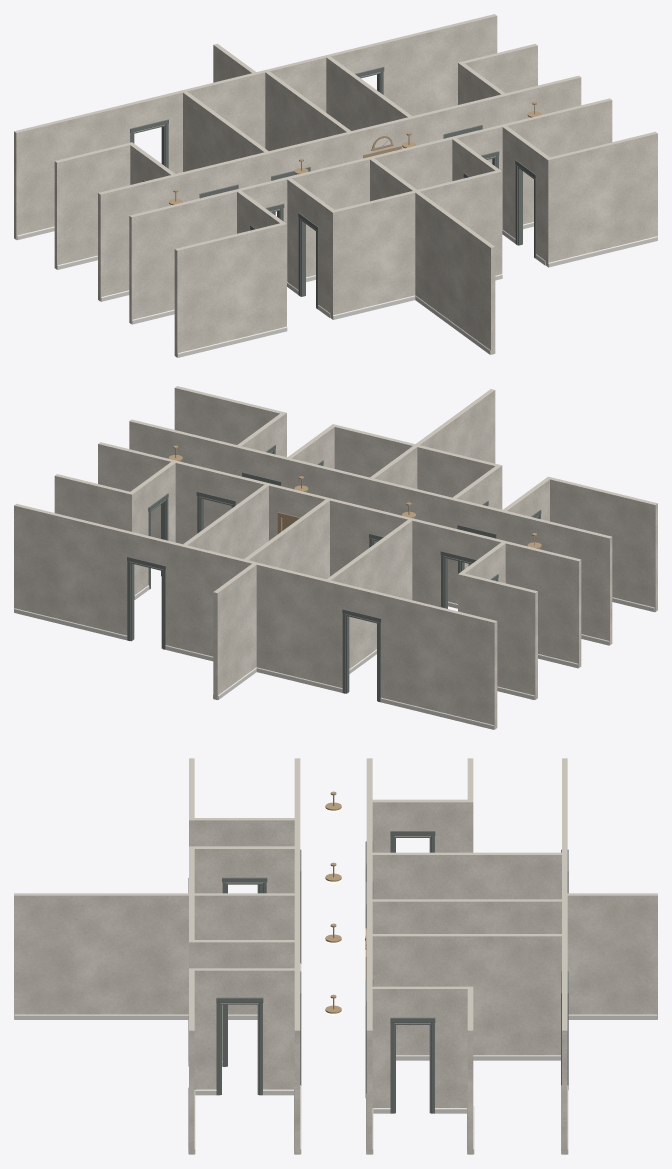
File: plan_low.glb
3 views of the same model, one above another, from view 1: azimuth 30°, elevation 25°; view 2: azimuth 150°, elevation 25°; view 3: azimuth 270°, elevation 25° (orthographic). The views are drawn at different scales.
Parts seen in each view (by area): view 1: plan_low_plaster, plan_low_frame, plan_low_trim, plan_low_bronze; view 2: plan_low_plaster, plan_low_frame, plan_low_trim, plan_low_bronze; view 3: plan_low_plaster, plan_low_frame, plan_low_trim, plan_low_bronze.
Part boxes in pixels (left/top/right/bottom): plan_low_plaster: left=14, top=14, right=657, bottom=357; plan_low_frame: left=130, top=67, right=536, bottom=309; plan_low_trim: left=17, top=222, right=657, bottom=357; plan_low_bronze: left=169, top=101, right=541, bottom=204; plan_low_plaster: left=14, top=386, right=657, bottom=729; plan_low_frame: left=127, top=444, right=541, bottom=702; plan_low_trim: left=14, top=585, right=654, bottom=729; plan_low_bronze: left=169, top=445, right=541, bottom=548; plan_low_plaster: left=14, top=758, right=657, bottom=1154; plan_low_frame: left=216, top=831, right=568, bottom=1113; plan_low_trim: left=14, top=878, right=657, bottom=1154; plan_low_bronze: left=325, top=791, right=366, bottom=1013.
Bounding box in the file's own units: 13.4 × 2.85 × 13.4.
Materials: 8 (1 with a texture image).
